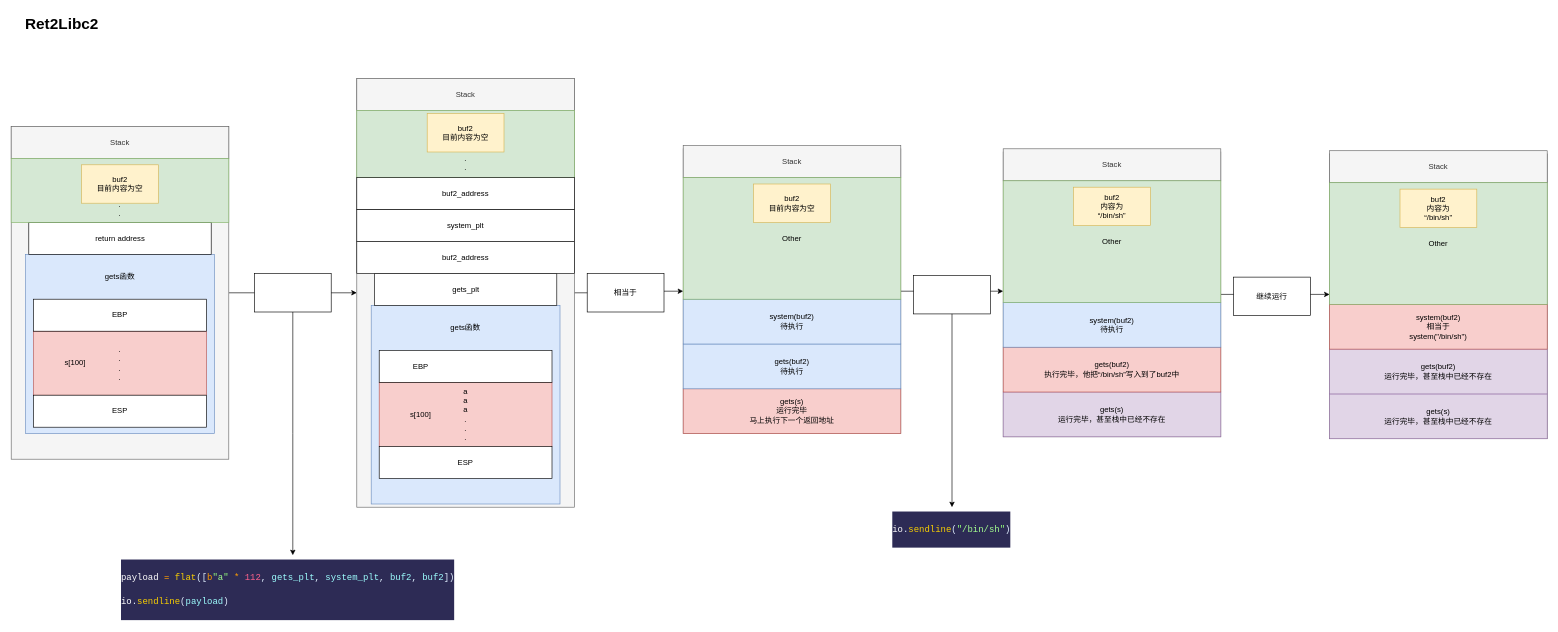
Image size: 1558x632. Some labels were removed from this diagram. Here are the shapes that lost their labels. From the top down, the box of each, then its label:
(254, 273, 331, 312): 进行ROP栈溢出
(913, 275, 990, 314): 执行命令
(379, 350, 552, 382): a a a
